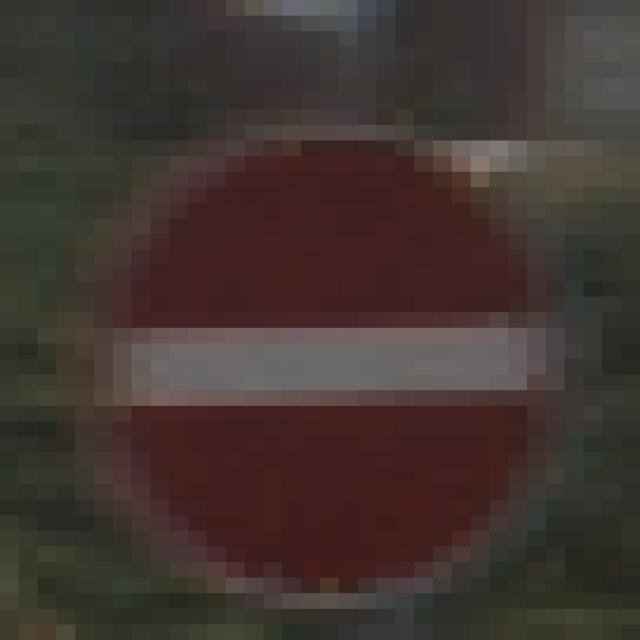No Entry: (95, 95, 547, 563)
